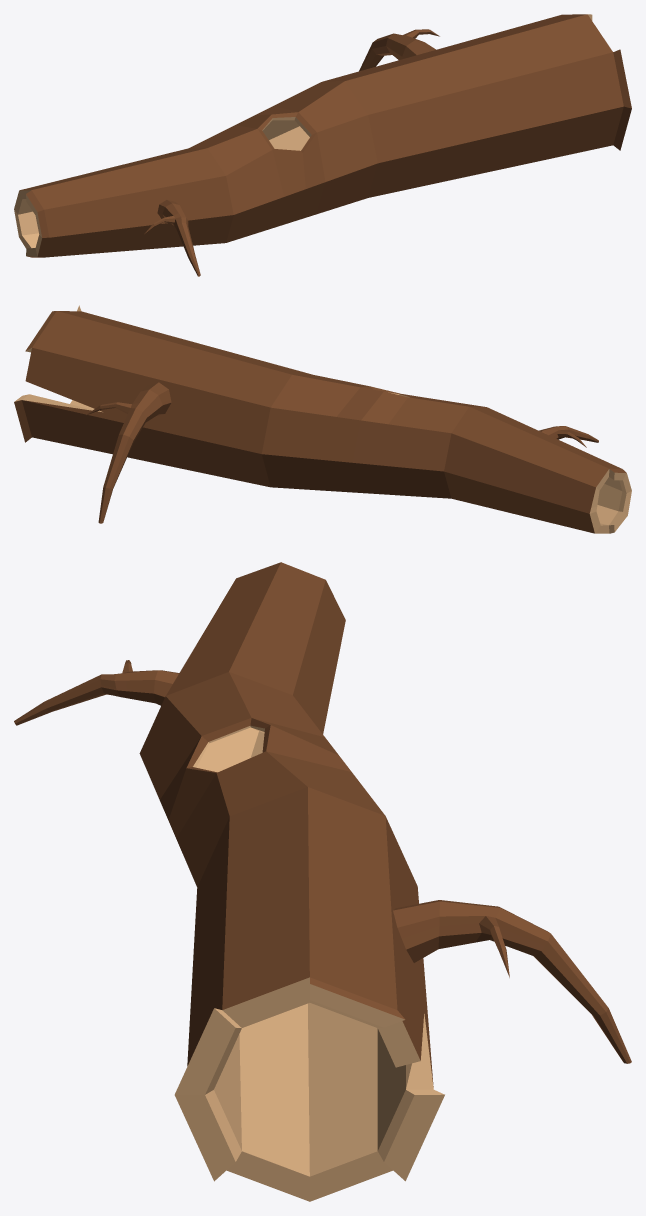
Rendered from log.glb.
The picture shows the model from 3 angles, top to bottom: view 1: azimuth 30°, elevation 25°; view 2: azimuth 150°, elevation 25°; view 3: azimuth 270°, elevation 25°; orthographic projection. The views are drawn at different scales.
Visible parts, largest first — view 1: Circle; view 2: Circle; view 3: Circle.
Part boxes in pixels (box(x1,y1,x2,y2)): Circle: box(14, 14, 631, 276); Circle: box(14, 305, 631, 533); Circle: box(14, 562, 631, 1201).
Size of the model in its own units: 11.49 by 2.51 by 6.26.
